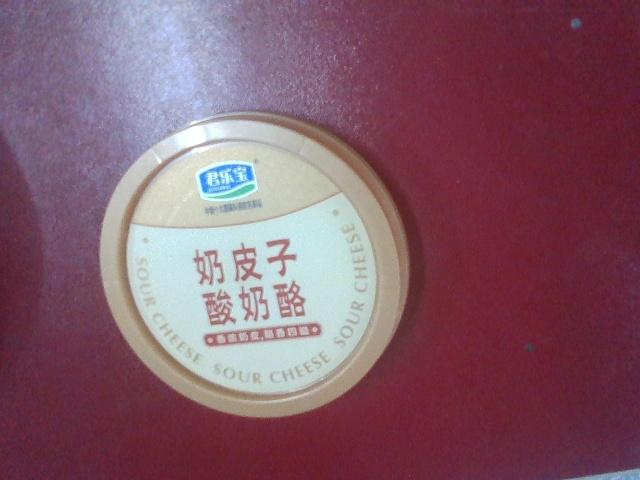lid: (81, 110, 427, 431)
